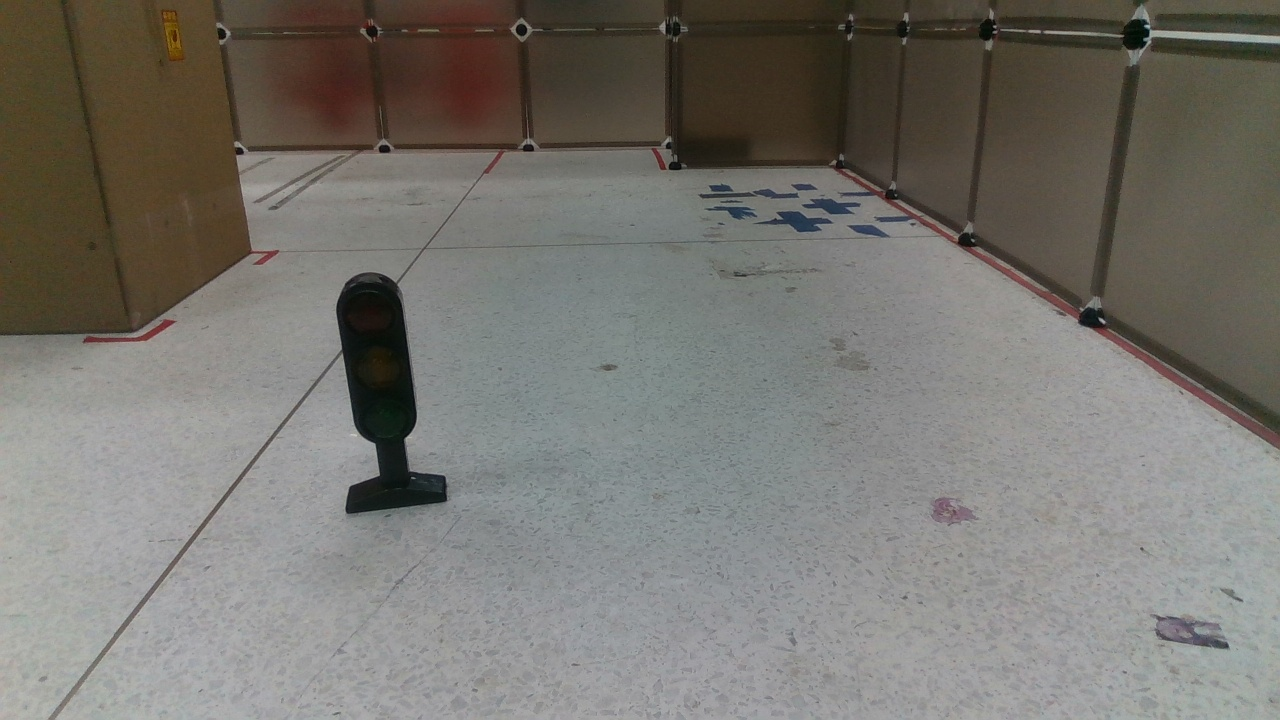Dim traffic light: (324, 274, 455, 515)
